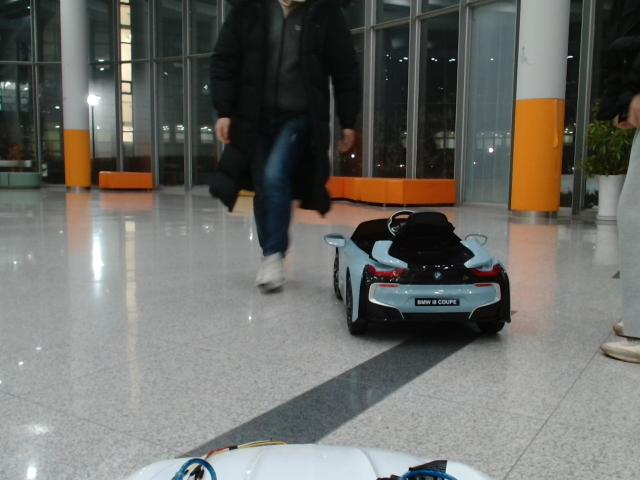car: (324, 210, 512, 340)
